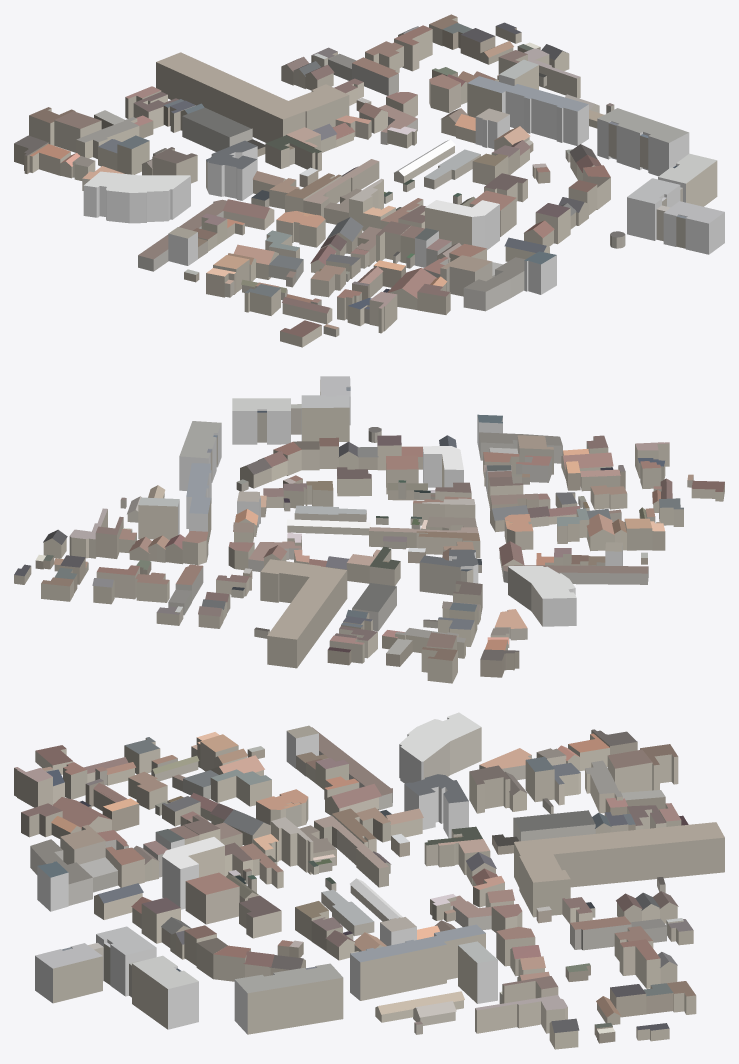
3 renders of one model, top to bottom at view 1: azimuth 30°, elevation 25°; view 2: azimuth 150°, elevation 25°; view 3: azimuth 270°, elevation 25°, orthographic. The views are drawn at different scales.
Visible parts, largest first — view 1: tuile; view 2: tuile; view 3: tuile.
Part boxes in pixels (bbox=[...]): tuile: bbox=[14, 14, 724, 347]; tuile: bbox=[14, 376, 724, 683]; tuile: bbox=[14, 712, 724, 1049].
Bounding box in the file's own units: 267 × 21.65 × 272.
